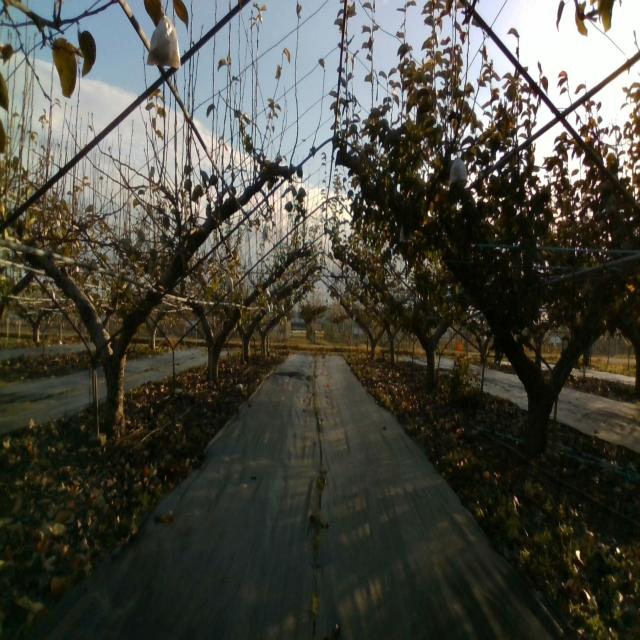pearbags: (146, 14, 181, 70), (449, 157, 468, 185)
